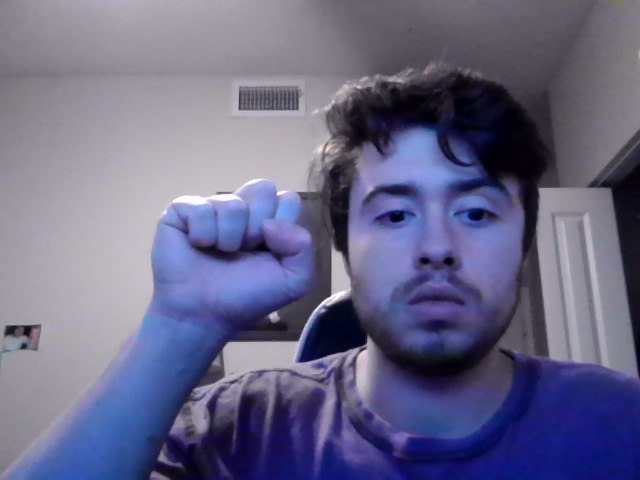s: (149, 177, 313, 347)
